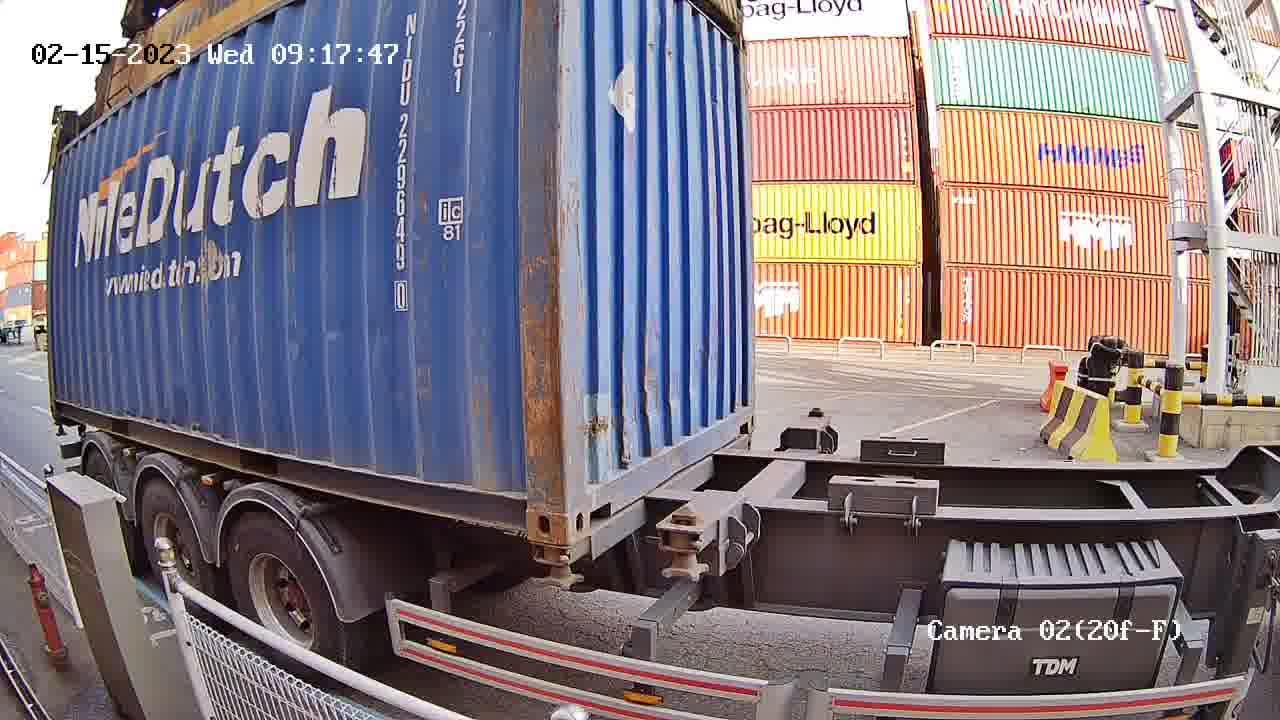Chassis: (571, 429, 758, 577)
Cone: (534, 543, 578, 584)
Hole_L: (567, 446, 628, 540)
Hole_R: (494, 463, 570, 547), (723, 379, 760, 444)
Tire: (227, 521, 348, 662), (143, 489, 214, 585)
